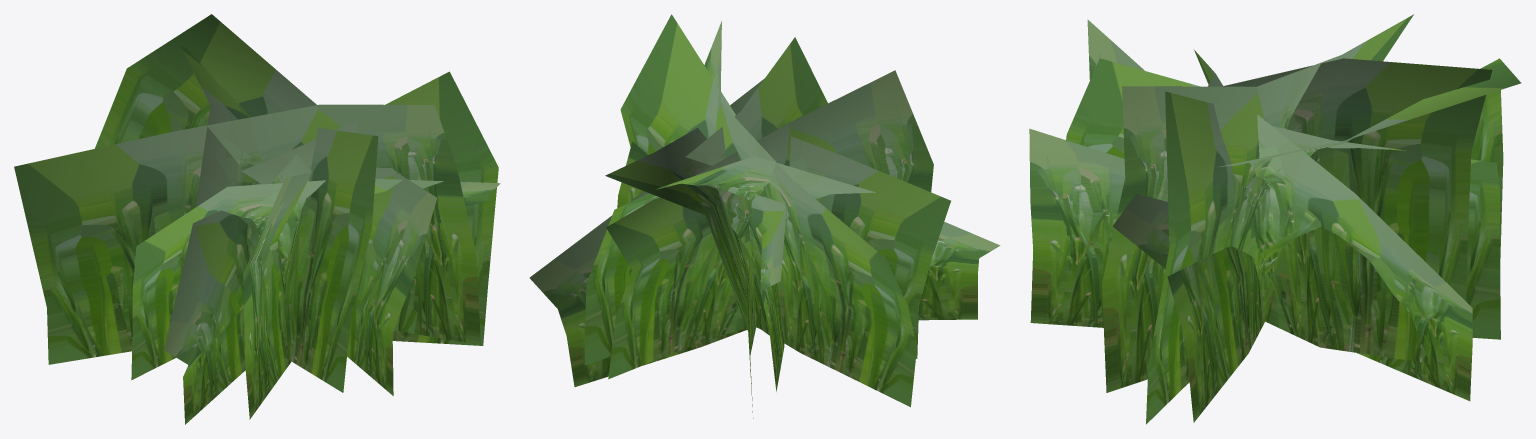
The model's file is Tree_Grass_01.fbx.
3 renders of one model, left to right at view 1: azimuth 30°, elevation 25°; view 2: azimuth 150°, elevation 25°; view 3: azimuth 270°, elevation 25°, orthographic. The views are drawn at different scales.
Visible parts, largest first — view 1: LOD0; view 2: LOD0; view 3: LOD0.
Part boxes in pixels (bbox=[...]): LOD0: bbox=[14, 14, 500, 424]; LOD0: bbox=[529, 14, 1000, 418]; LOD0: bbox=[1029, 14, 1521, 424].
Bounding box in the file's own units: 119 × 84.13 × 115.
